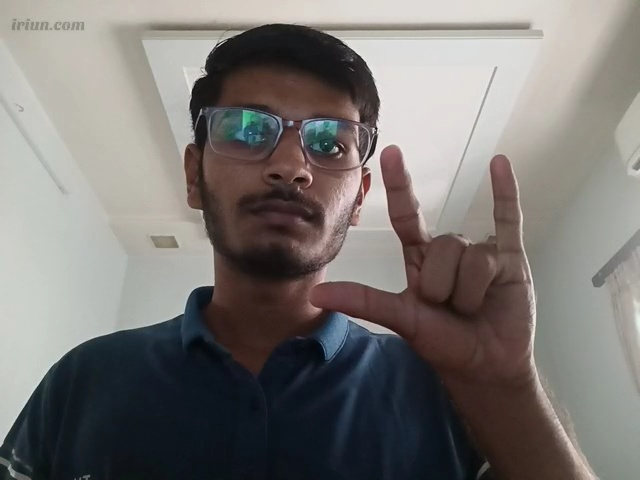I Love You: (305, 142, 565, 392)
